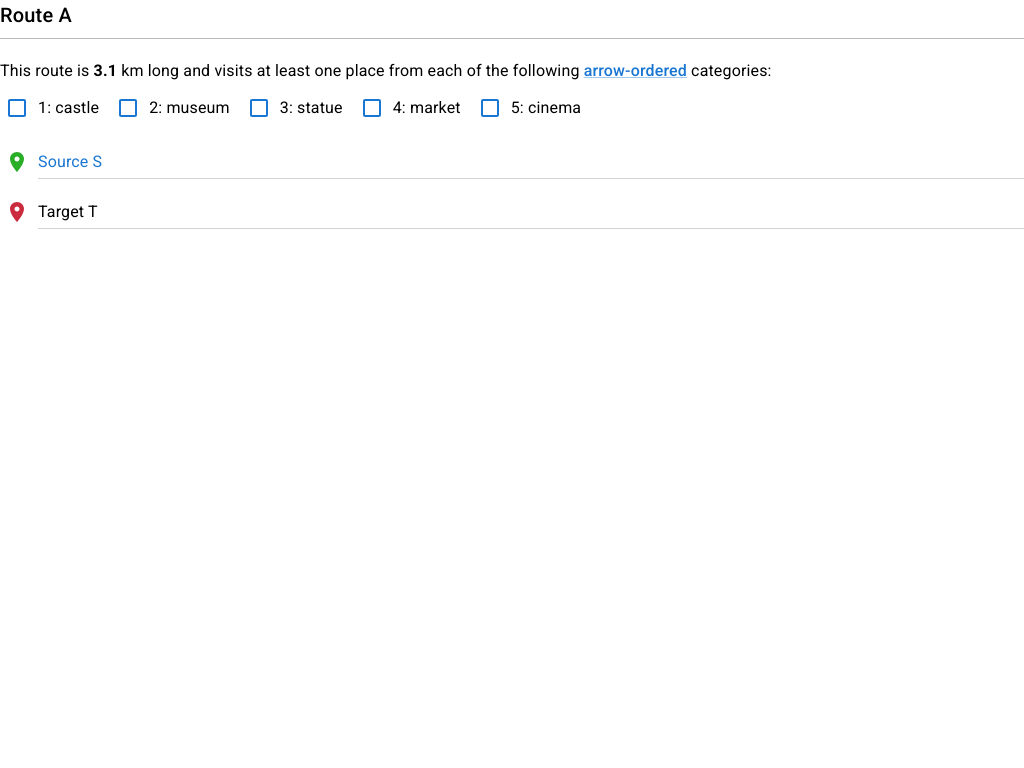
Scenario: <ViewerRouteContent /> › arrows › arrows button opens arrows dialog and draws a graph
Click the button with aria-label "arrows". click: click(635, 70)
box: [584,61,687,80]
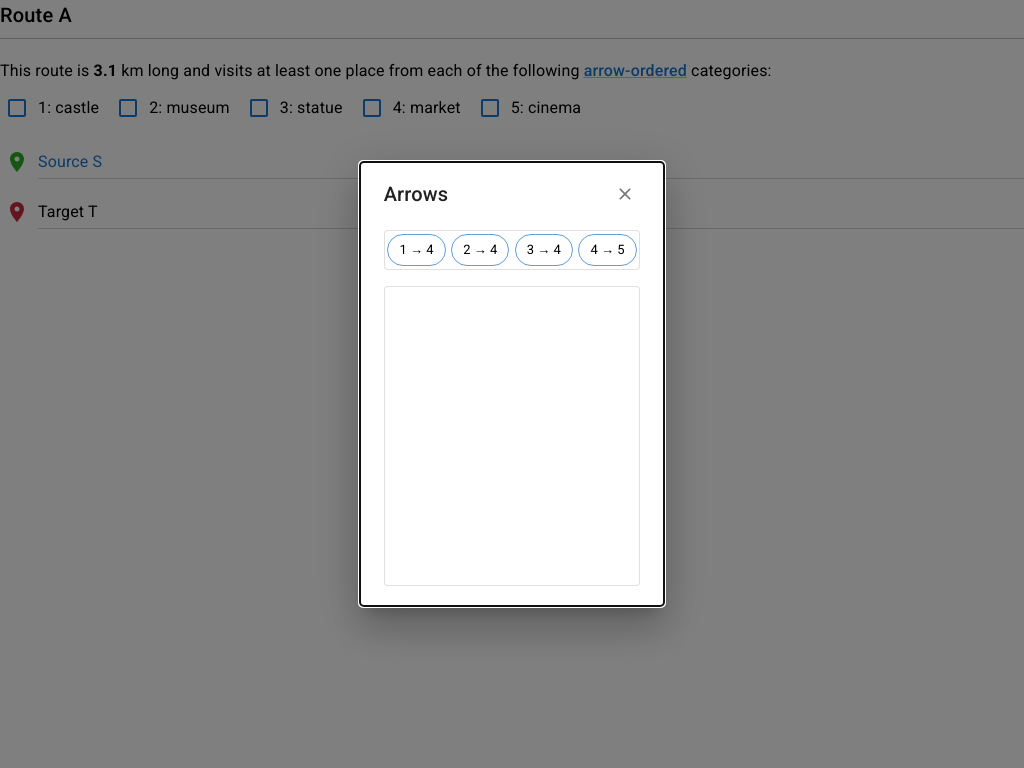
Now the dialog "Arrows" is shown, box [360,162,664,606]
